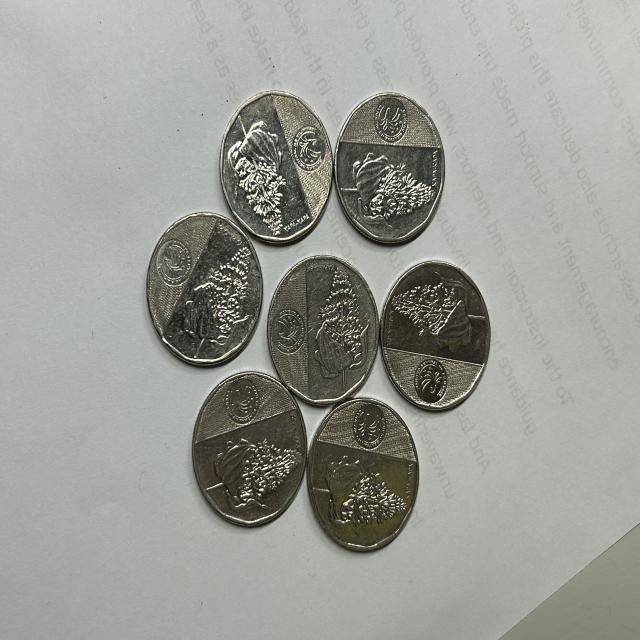10_New_Back: (222, 115, 306, 255), (180, 228, 256, 350), (204, 426, 300, 516), (319, 449, 407, 540), (346, 144, 436, 232), (303, 263, 366, 387), (394, 268, 484, 354)
